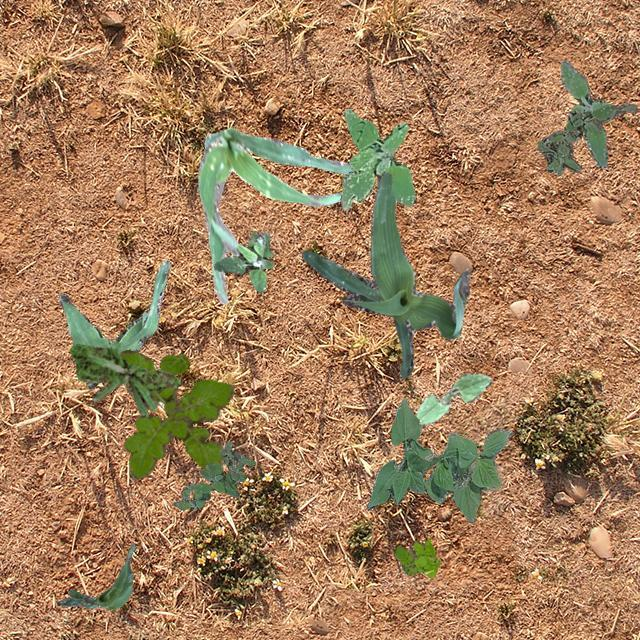crop: (301, 172, 468, 378), (196, 125, 352, 302), (366, 398, 512, 522), (59, 260, 170, 388), (56, 542, 134, 608), (416, 372, 492, 426)
weed: (119, 348, 234, 478), (68, 342, 180, 416), (338, 108, 414, 210), (536, 102, 636, 172), (172, 439, 255, 508), (560, 59, 608, 168), (212, 230, 272, 292), (392, 536, 438, 576)
